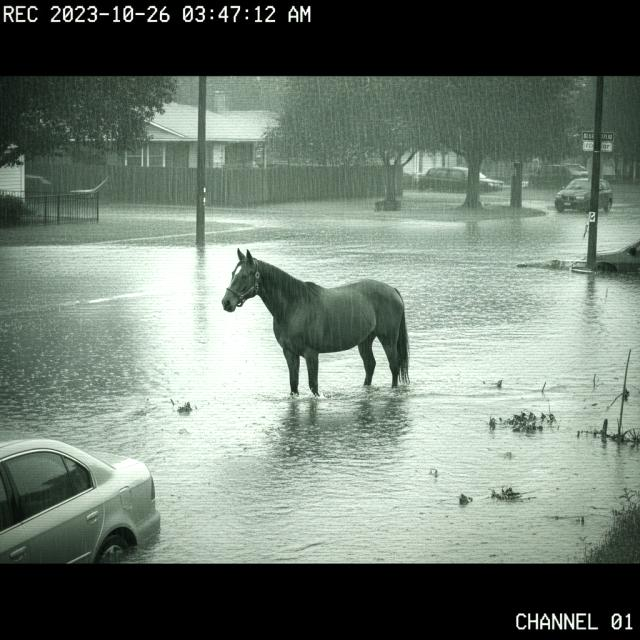horse: (213, 245, 437, 405)
